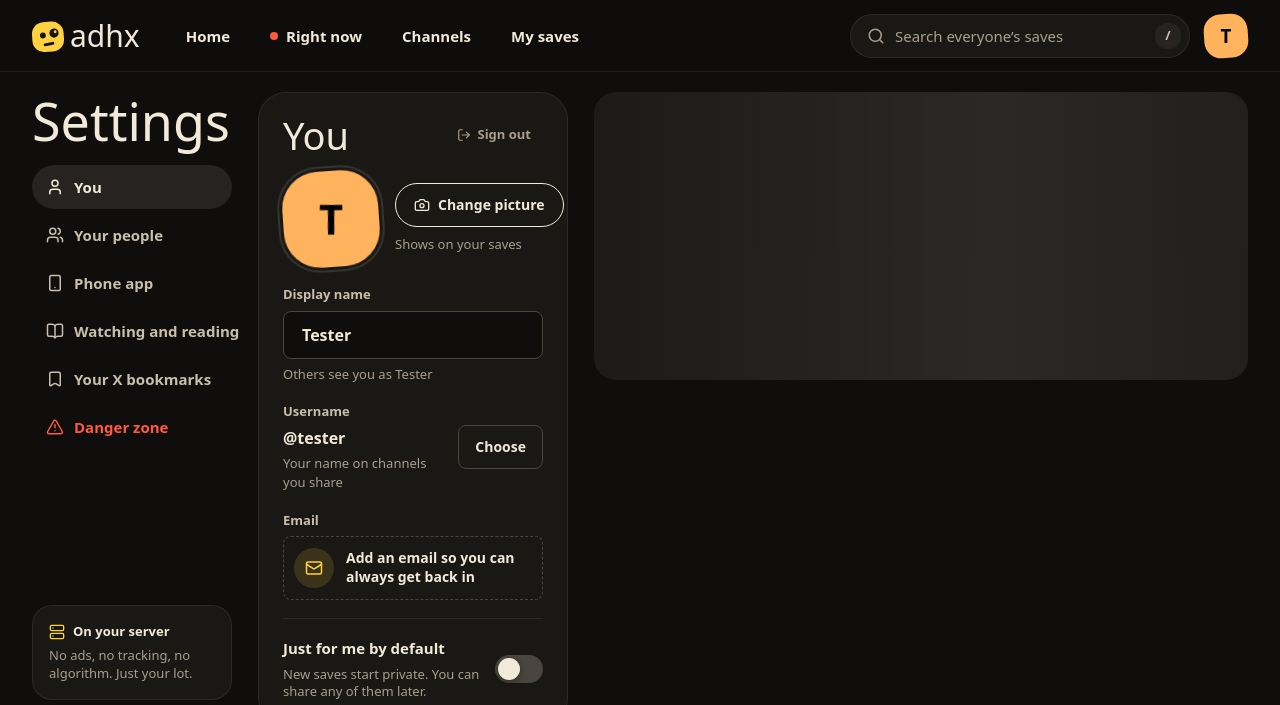
SettingsClient — account › renders an Add-email form when no email identity is linked
Click the button "Add an email so you can always get back in".
click(413, 568)  # box left=283, top=536, right=543, bottom=600
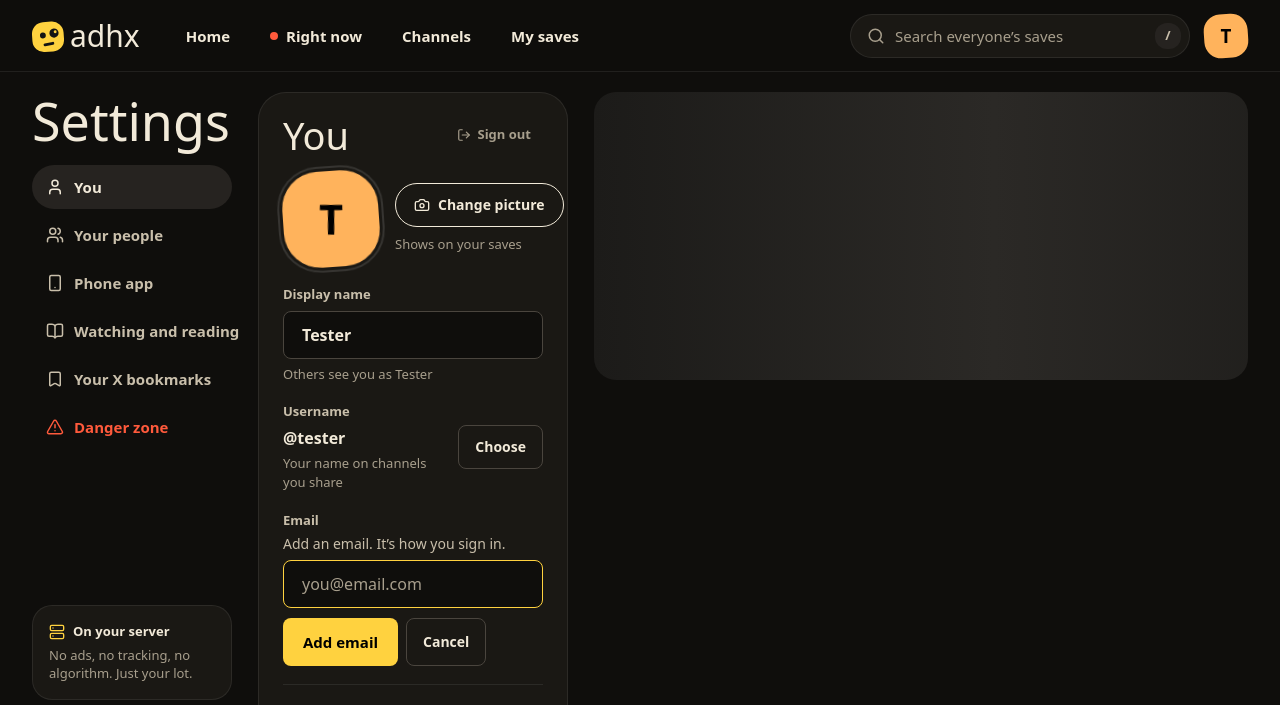
Result: the text "Add an email. It’s how you sign in." is shown at left=283, top=534, right=543, bottom=554
Result: the field with placeholder "you@email.com" is shown at left=283, top=560, right=543, bottom=608
Result: the button "Add email" is shown at left=283, top=618, right=398, bottom=666
